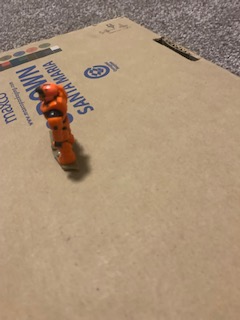soldier: (34, 80, 83, 170)
